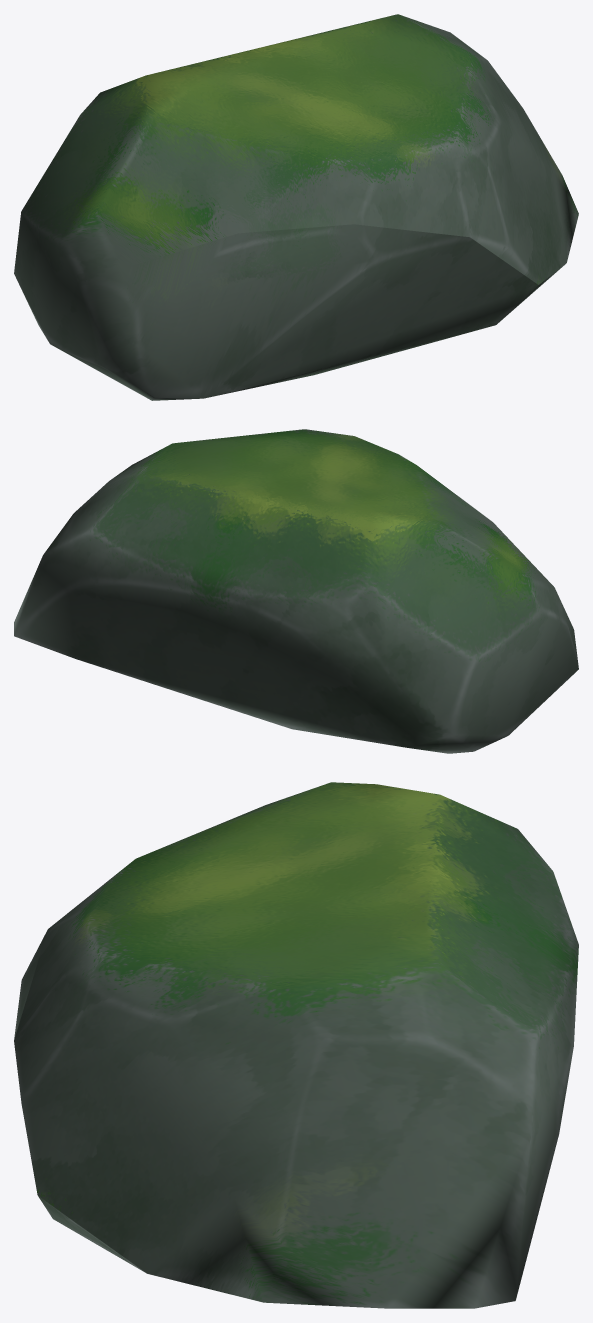
Rendered from Stone2_v2_moss.fbx.
The picture shows the model from 3 angles, top to bottom: view 1: azimuth 30°, elevation 25°; view 2: azimuth 150°, elevation 25°; view 3: azimuth 270°, elevation 25°; orthographic projection. The views are drawn at different scales.
Visible parts, largest first — view 1: Stone2_v2_moss; view 2: Stone2_v2_moss; view 3: Stone2_v2_moss.
Boxes of the visible parts, <box> form: Stone2_v2_moss: <box>14,14,578,400</box>; Stone2_v2_moss: <box>14,429,578,753</box>; Stone2_v2_moss: <box>14,782,578,1308</box>.
Size of the model in its own units: 200 by 82.03 by 134.
Materials: 1 (1 with a texture image).
